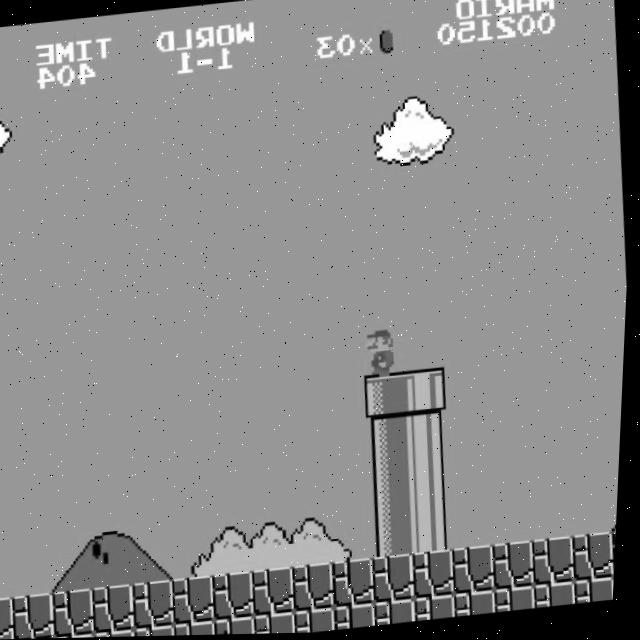11- little_mario: (361, 327, 409, 380)
14- pipe: (410, 460, 457, 510), (370, 464, 417, 514), (372, 509, 419, 559), (412, 505, 459, 554), (367, 419, 414, 467), (408, 414, 454, 463)
15- pipe_head: (405, 368, 452, 418), (365, 373, 412, 422)
17- undestructible_block: (574, 534, 621, 584), (455, 546, 502, 596), (335, 559, 382, 609), (295, 563, 342, 613), (175, 576, 222, 626), (135, 580, 182, 630), (95, 584, 142, 634), (55, 588, 102, 638), (535, 538, 581, 588), (495, 542, 541, 592), (375, 555, 421, 605), (255, 567, 301, 617), (415, 551, 461, 600), (215, 572, 261, 621), (15, 593, 61, 639), (538, 583, 582, 610), (458, 592, 502, 619), (418, 596, 462, 623), (378, 600, 422, 627), (338, 604, 382, 631), (498, 588, 542, 614), (577, 579, 619, 606), (298, 609, 342, 634), (258, 612, 301, 635), (1, 596, 21, 640), (218, 616, 261, 636), (179, 621, 222, 636), (139, 624, 182, 637), (99, 629, 142, 638)
